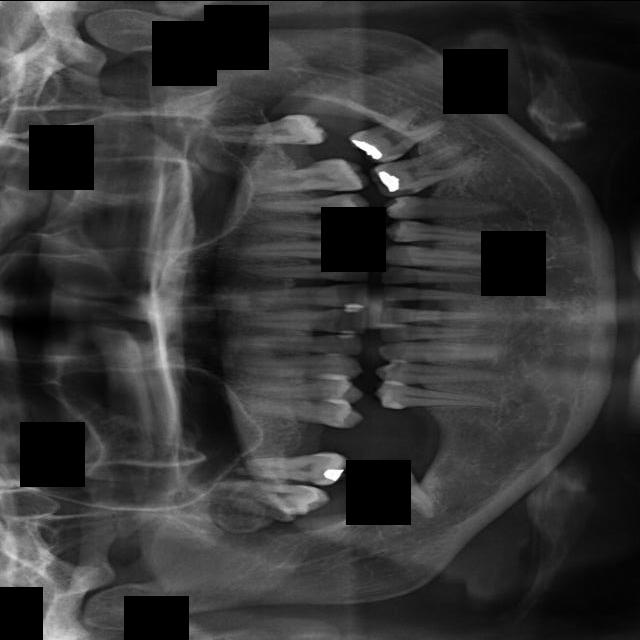3M ESPE Implant: (198, 474, 334, 519)
AGS Medikal Implant: (366, 131, 498, 205)
Amalgam filling: (229, 442, 351, 488)
Anthogyr Implant: (380, 190, 516, 221)
Bicon Implant: (380, 221, 525, 243)
BioHorizons Implant: (379, 241, 533, 276)
BioLife Implant: (379, 265, 501, 284)
Biomet 3i Implant: (380, 284, 496, 302)
Blue Sky Bio Implant: (377, 306, 504, 323)
Camlog Implant: (377, 323, 509, 341)
Caries: (237, 259, 370, 282)
Composite filling: (373, 341, 514, 362)
Cowellmedi Implant: (371, 364, 506, 385)
Crown: (369, 383, 509, 418)
Dentium Implant: (345, 448, 441, 549)
Euroteknika Implant: (232, 397, 370, 432)
Filling: (228, 373, 368, 405)
Frontier Implant: (206, 350, 368, 381)
Hiossen Implant: (206, 238, 373, 261)
Implant: (219, 305, 373, 333)
Implant Direct: (213, 329, 365, 355)
Keystone Dental Implant: (222, 282, 371, 312)
MIS Implant: (230, 214, 372, 238)
Mandible: (243, 190, 372, 222)
Maxilla: (233, 155, 370, 196)
Neodent Implant: (197, 111, 334, 146)
Neoss Implant: (342, 90, 457, 176)
